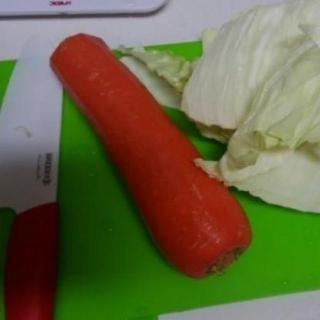carrot: (48, 32, 256, 282)
